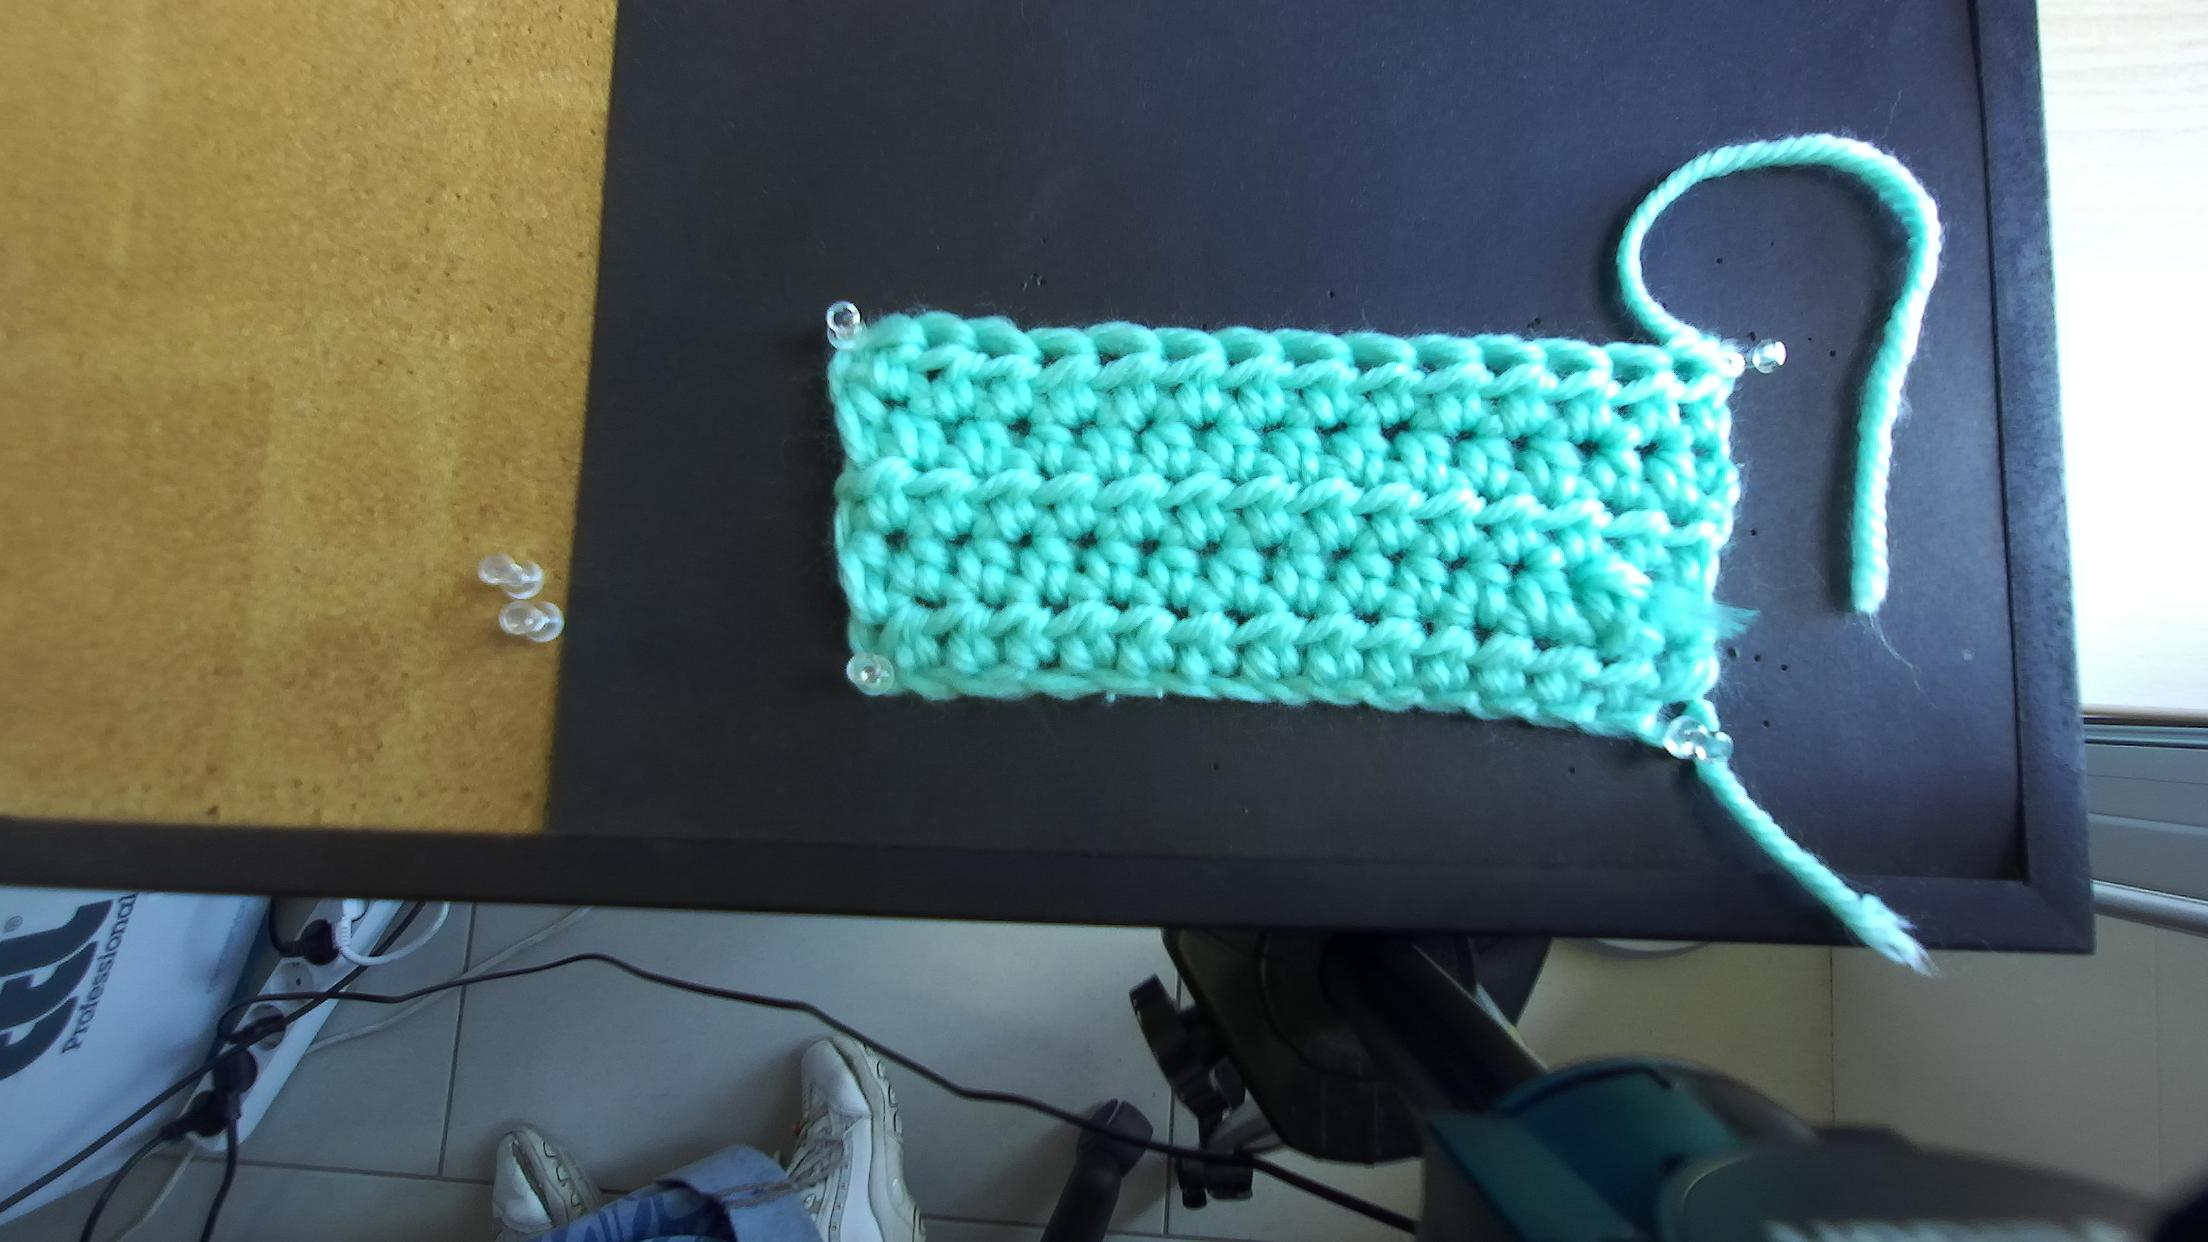hole: (1351, 350, 1400, 378), (1096, 343, 1146, 369), (1548, 353, 1589, 384), (1612, 359, 1654, 387), (1413, 353, 1457, 379), (1483, 355, 1526, 379), (1283, 349, 1330, 369), (1163, 343, 1204, 364), (974, 337, 1008, 361), (1036, 349, 1074, 369), (1671, 358, 1700, 384), (1227, 346, 1259, 367), (925, 331, 958, 350)
swatch: (823, 309, 1739, 761)
